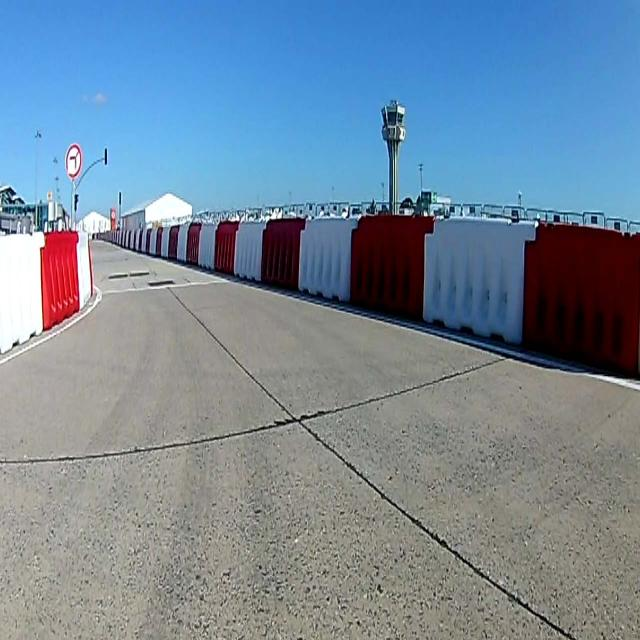soladonulmez: (65, 140, 83, 180)
